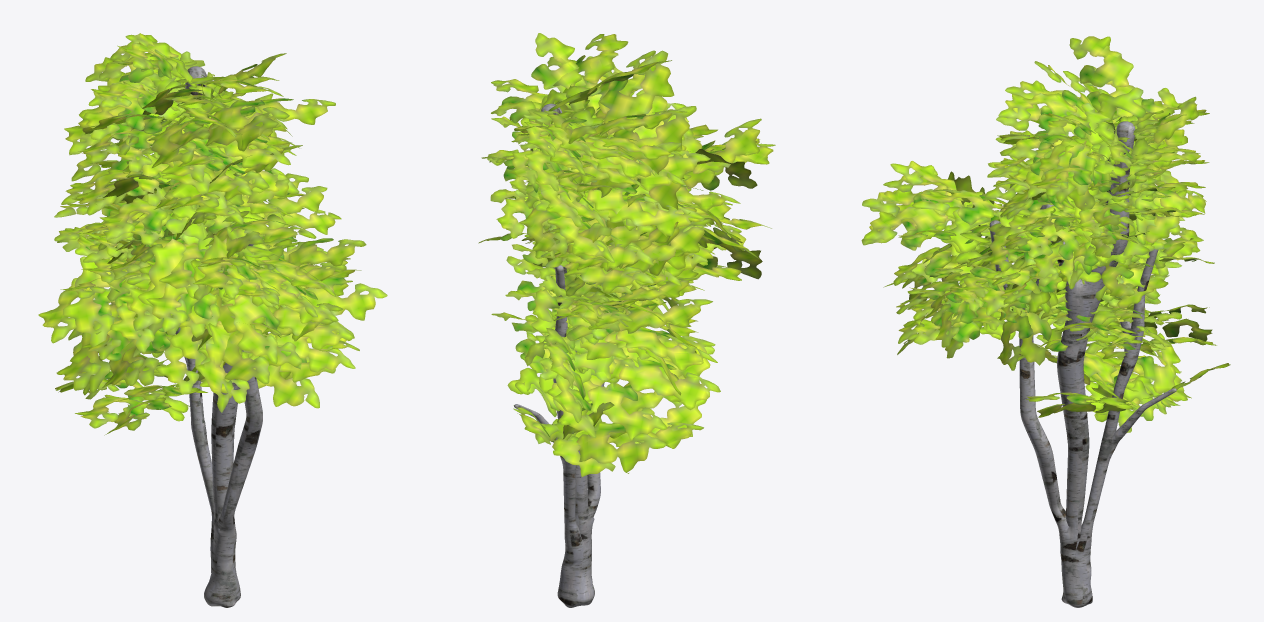
The model's file is Birch wood_2.fbx.
3 renders of one model, left to right at view 1: azimuth 30°, elevation 25°; view 2: azimuth 150°, elevation 25°; view 3: azimuth 270°, elevation 25°, orthographic. The views are drawn at different scales.
Visible parts, largest first — view 1: Cube.001; view 2: Cube.001; view 3: Cube.001.
Part boxes in pixels (box(x1,y1,x2,y2)): Cube.001: box(38, 33, 387, 607); Cube.001: box(478, 33, 775, 607); Cube.001: box(861, 36, 1230, 607).
Size of the model in its own units: 1322 by 2456 by 1704.
